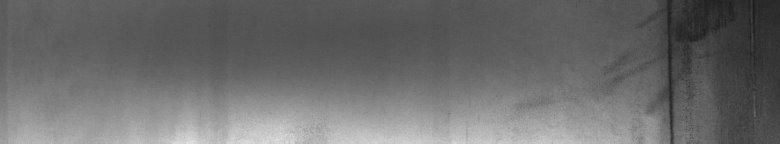ka: (518, 4, 764, 136)
